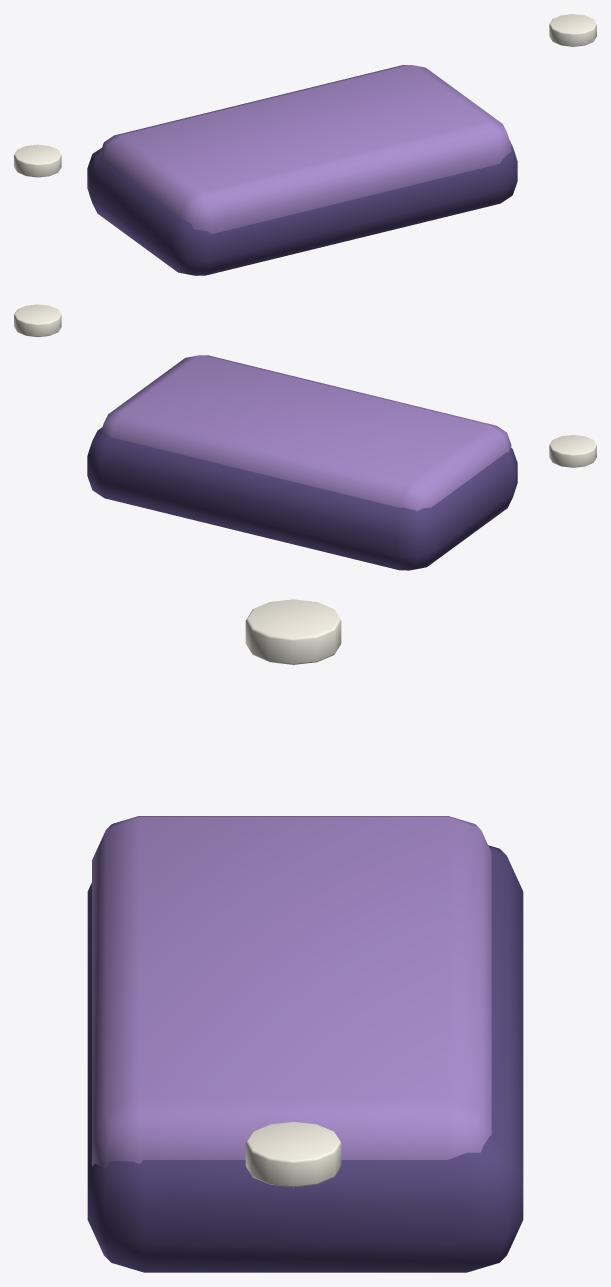
File: music_bar_6.glb
3 views of the same model, one above another, from view 1: azimuth 30°, elevation 25°; view 2: azimuth 150°, elevation 25°; view 3: azimuth 270°, elevation 25° (orthographic). The views are drawn at different scales.
Parts seen in each view (by area): view 1: PaintedKey.006, InkKey.006, PearlPin_-1.006, PearlPin_1.006; view 2: PaintedKey.006, InkKey.006, PearlPin_1.006, PearlPin_-1.006; view 3: PaintedKey.006, InkKey.006, PearlPin_-1.006, PearlPin_1.006.
Part boxes in pixels (bbox=[...]): PaintedKey.006: bbox=[100, 65, 511, 234]; InkKey.006: bbox=[87, 141, 517, 275]; PearlPin_-1.006: bbox=[14, 144, 61, 177]; PearlPin_1.006: bbox=[549, 14, 596, 46]; PaintedKey.006: bbox=[100, 355, 511, 511]; InkKey.006: bbox=[87, 427, 517, 570]; PearlPin_1.006: bbox=[14, 304, 61, 337]; PearlPin_-1.006: bbox=[549, 435, 596, 467]; PaintedKey.006: bbox=[92, 816, 491, 1168]; InkKey.006: bbox=[87, 845, 523, 1272]; PearlPin_-1.006: bbox=[245, 599, 341, 664]; PearlPin_1.006: bbox=[245, 1121, 341, 1187].
Size of the model in its own units: 4.46 by 0.9125 by 1.46.
